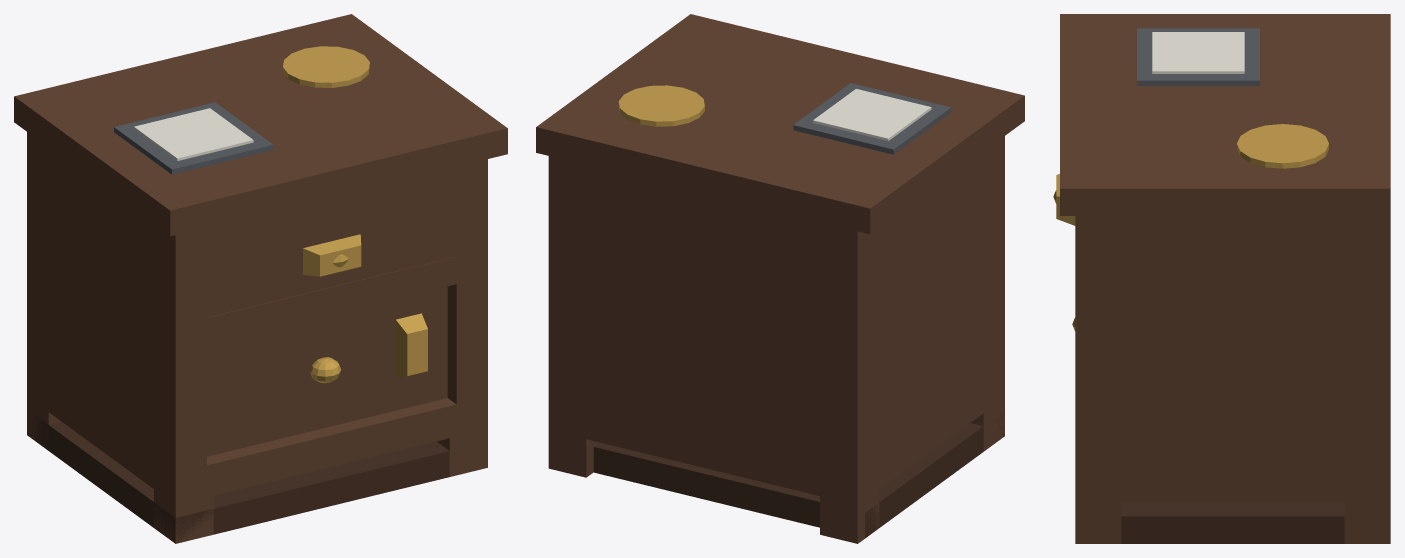
The model's file is cabinetBedDrawer.glb.
3 views of the same model, side by side, from view 1: azimuth 30°, elevation 25°; view 2: azimuth 150°, elevation 25°; view 3: azimuth 270°, elevation 25° (orthographic). The views are drawn at different scales.
Visible parts, largest first — view 1: cabinetBedDrawer(Clone), door, drawer; view 2: cabinetBedDrawer(Clone); view 3: cabinetBedDrawer(Clone).
Part boxes in pixels (x1,y1,x2,y2): cabinetBedDrawer(Clone): [14, 14, 507, 543]; door: [207, 286, 447, 456]; drawer: [207, 191, 456, 317]; cabinetBedDrawer(Clone): [536, 14, 1024, 543]; cabinetBedDrawer(Clone): [1060, 14, 1390, 543].
Bounding box in the file's own units: 0.266 × 0.2632 × 0.2173.
